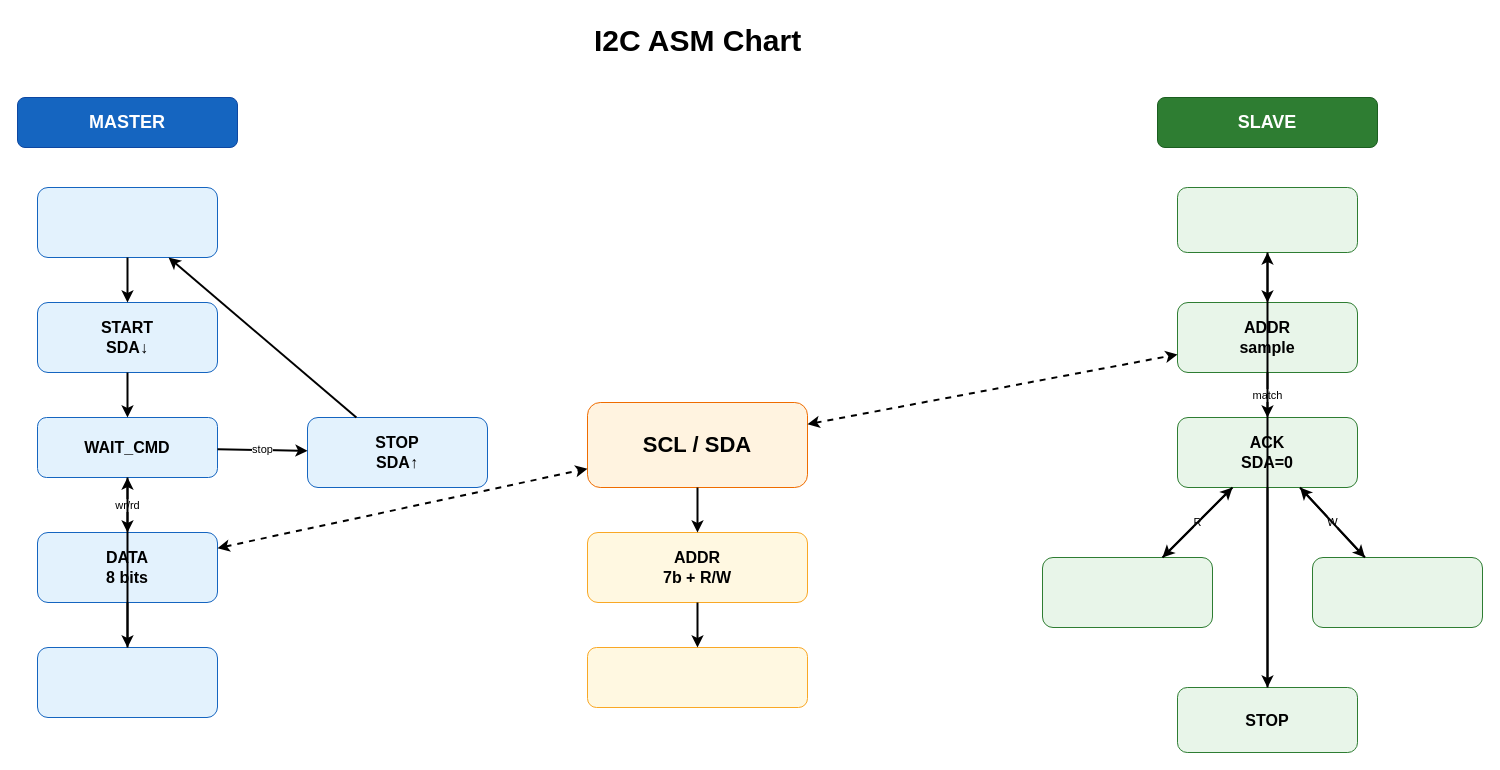
Some shapes in this 1500 by 770 pixel diagram are drawn without their labels. Each missing label, with the centre of its shape:
"ACK" belongs at [697,677].
"ACK done" belongs at [127,682].
"IDLE" belongs at [1267,219].
"IDLE SCL=1 SDA=1" belongs at [127,222].
"READ drive" belongs at [1127,592].
"WRITE sample" belongs at [1397,592].
